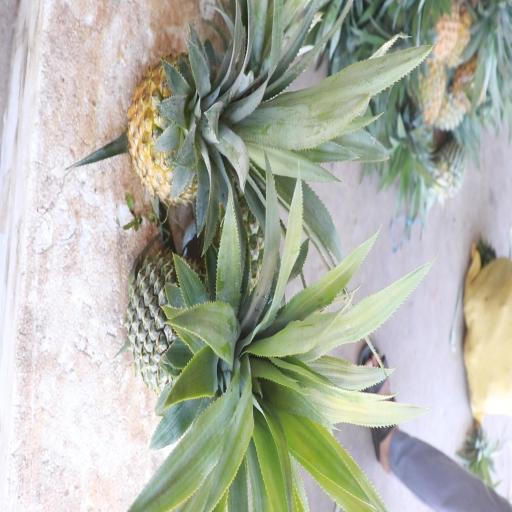Pineapple - v8 v1: (123, 58, 308, 216)
